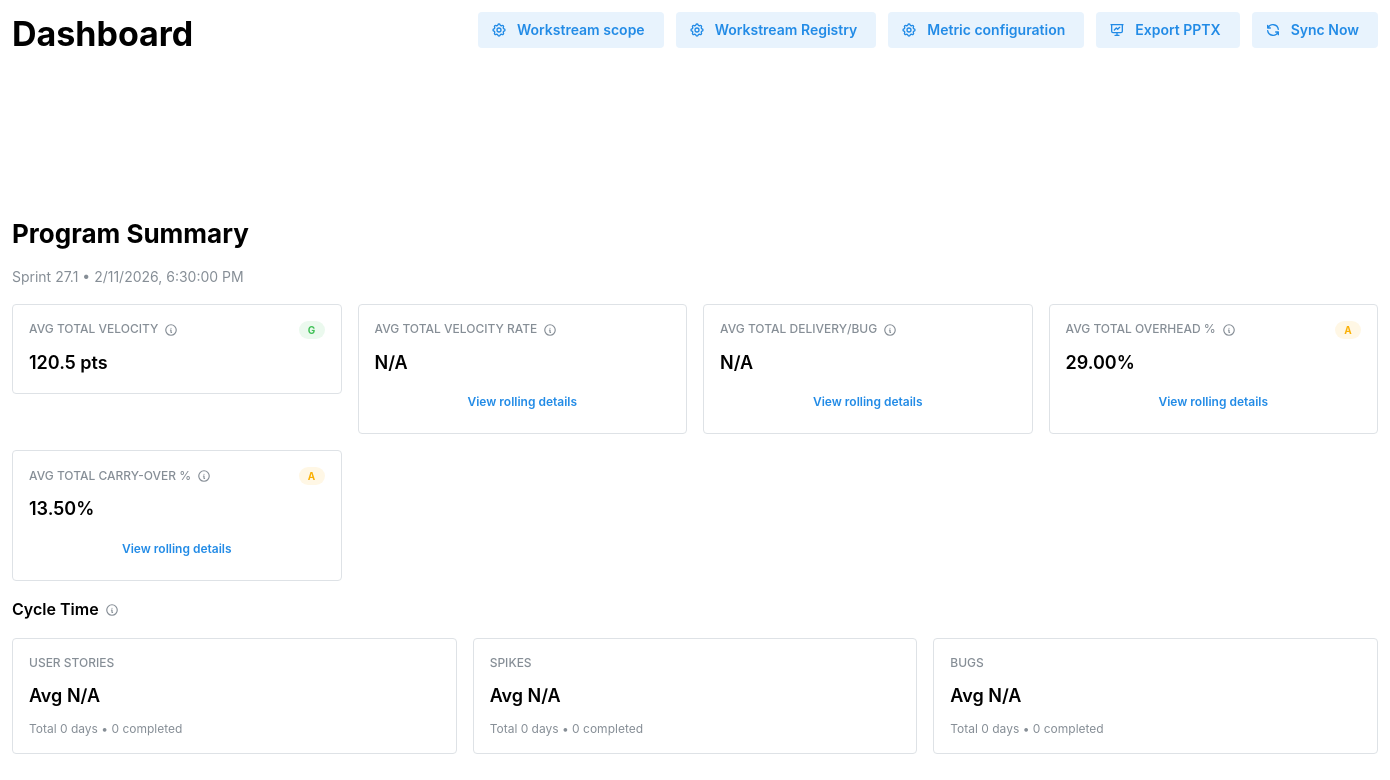
Test case: DashboardContainer › keeps generic sync alert for non-auth invalid sync failures
This screenshot has width=1390, height=780.
Click the button "Sync Now": {"x": 1315, "y": 30} [1252, 12, 1378, 48]
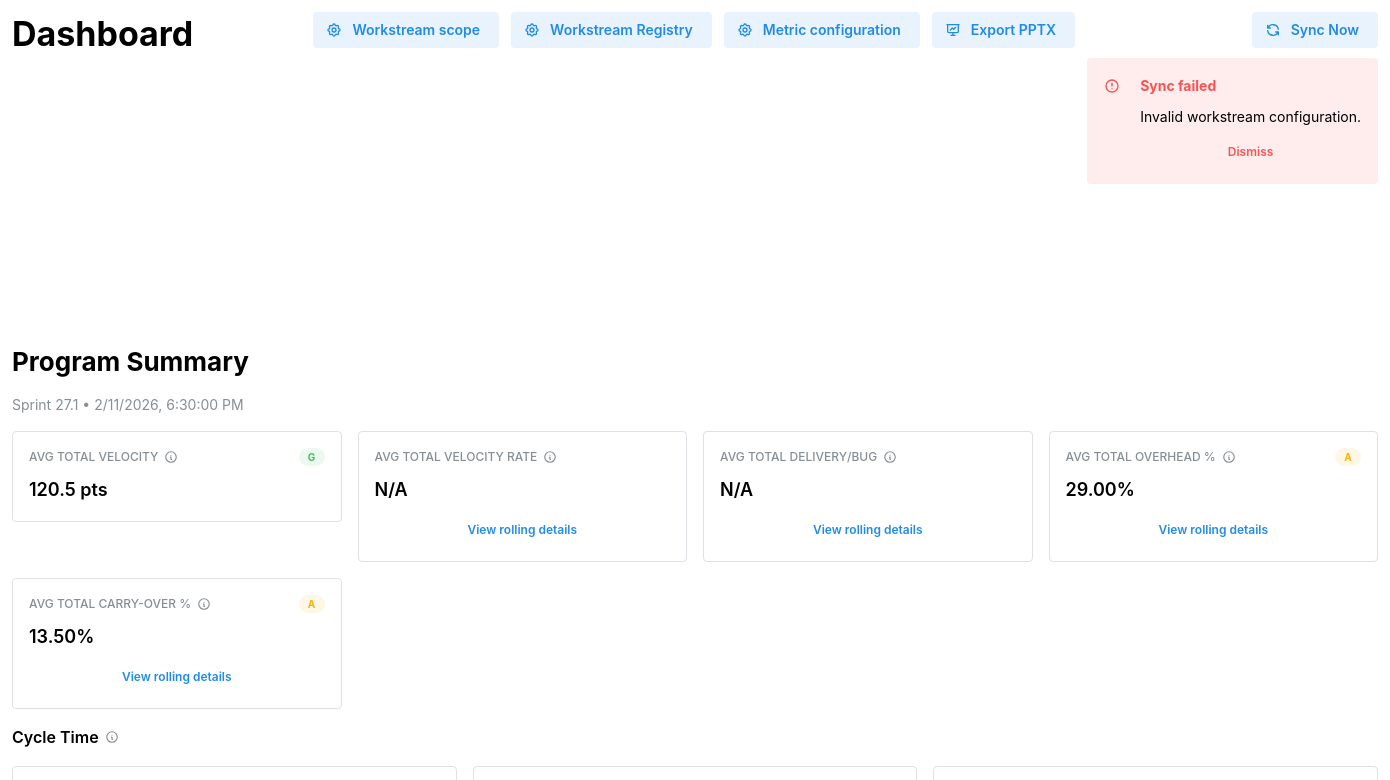
Expected: the text "Invalid workstream configuration." is shown, [1140, 107, 1361, 127]
Expected: the text "Sync failed" is shown, [1140, 75, 1216, 97]
